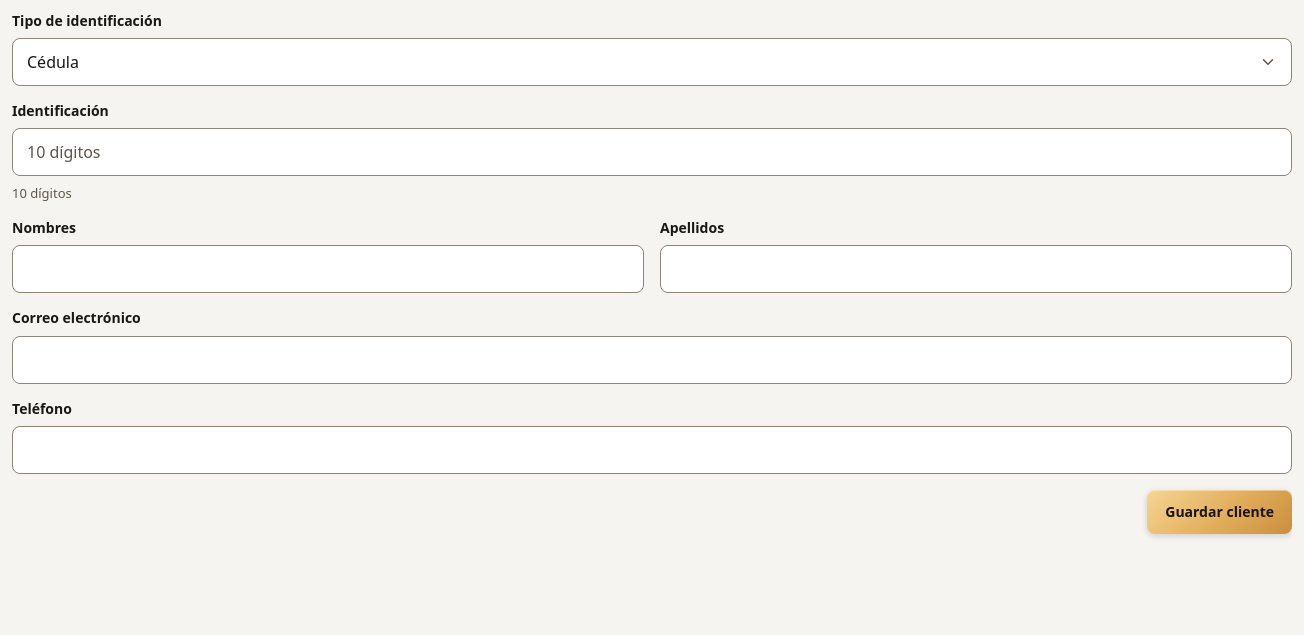
Scenario: FormularioCliente › marca los obligatorios vacíos
Click the button with test id "boton-guardar-cliente" at (1220, 512), box left=1147, top=490, right=1292, bottom=534
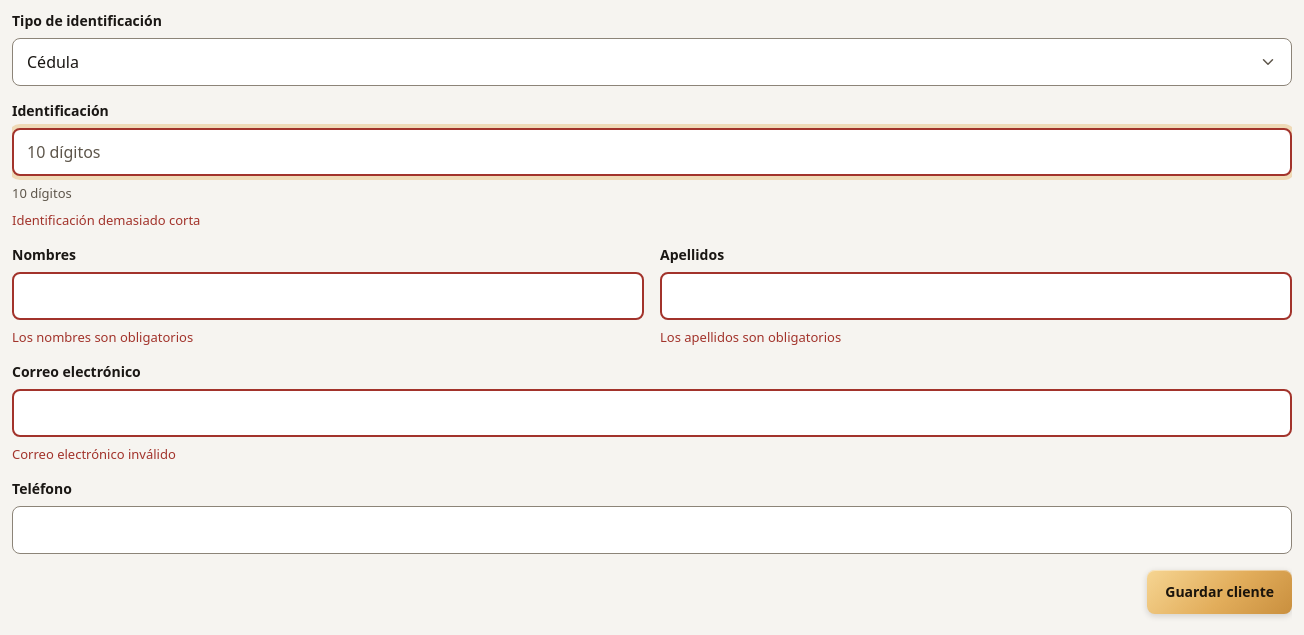
Check: the text "Los nombres son obligatorios" is shown, box left=12, top=328, right=193, bottom=346
Check: the text "Los apellidos son obligatorios" is shown, box left=660, top=328, right=841, bottom=346
Check: the text "Correo electrónico inválido" is shown, box left=12, top=445, right=176, bottom=463
